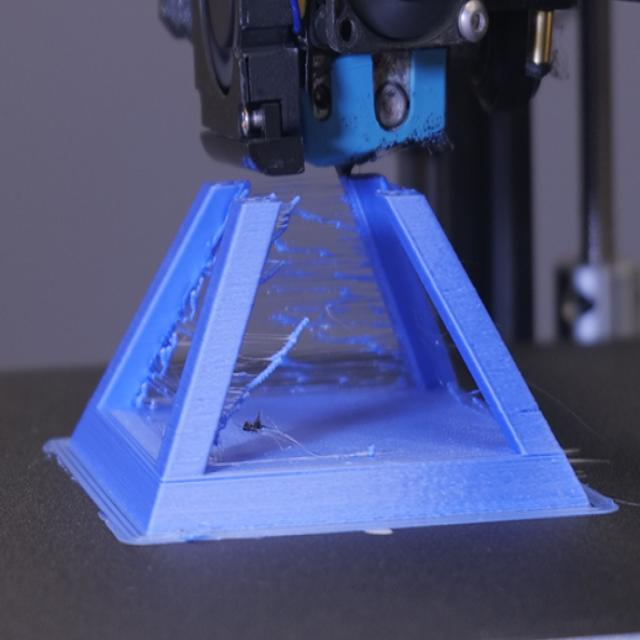Stringing: (260, 330, 348, 433), (368, 317, 433, 429), (290, 205, 358, 294), (152, 328, 188, 400)
